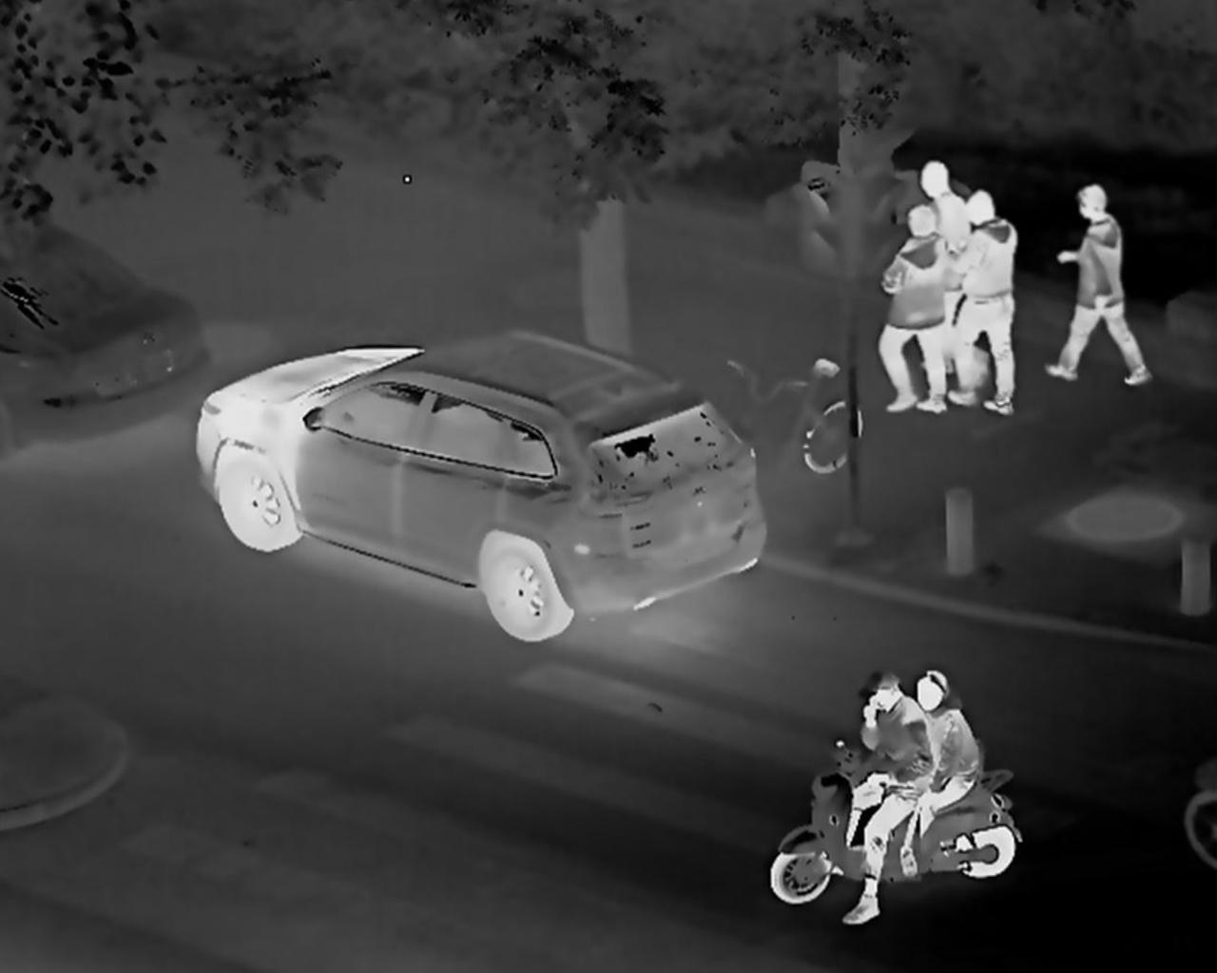person: (824, 675, 919, 925), (1044, 184, 1151, 386), (897, 670, 975, 874), (949, 194, 1020, 415), (876, 208, 948, 417), (918, 162, 979, 377)
